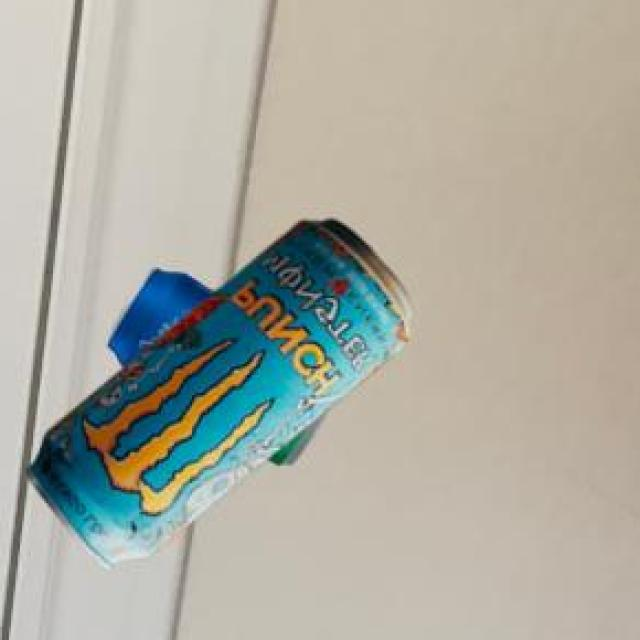logam: (30, 217, 414, 566), (111, 266, 328, 460)
